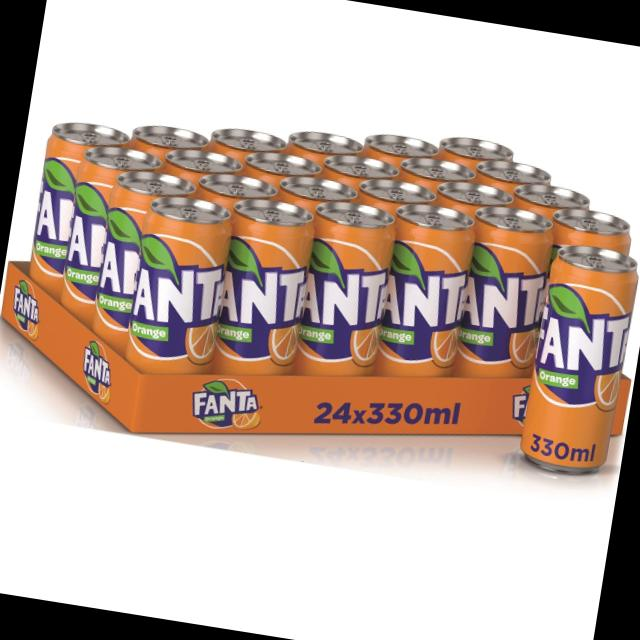fanta: (508, 240, 640, 478), (206, 212, 316, 394), (292, 198, 398, 386), (462, 211, 570, 392), (129, 195, 230, 374), (377, 208, 480, 382), (24, 110, 118, 284), (58, 141, 134, 337), (101, 176, 183, 357)
